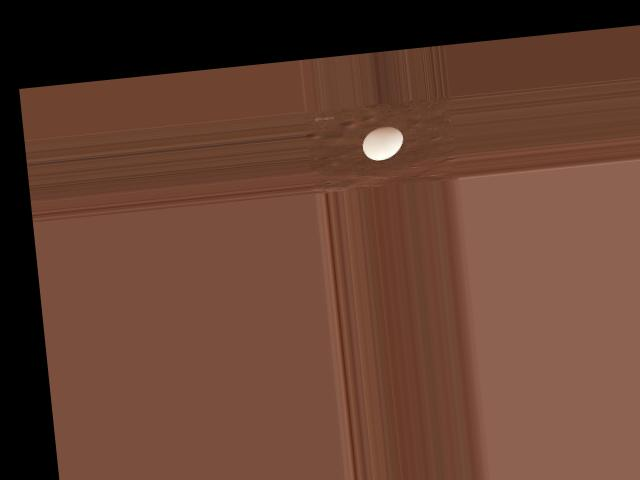egg: (361, 125, 405, 161)
